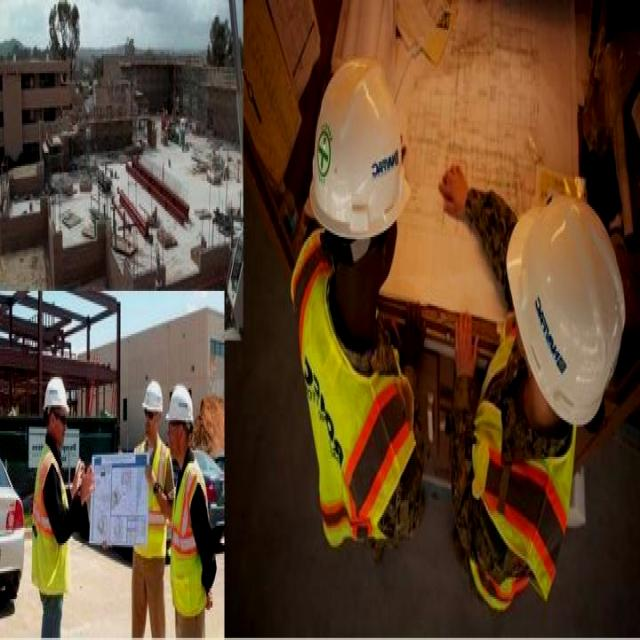face_nomask: (165, 422, 188, 470), (49, 405, 69, 453), (141, 407, 160, 446)
hand_noglove: (438, 149, 476, 235), (448, 298, 477, 394), (70, 444, 84, 506), (80, 457, 95, 508), (141, 459, 159, 498)
head_helmet: (507, 194, 624, 407), (299, 36, 415, 232), (165, 379, 198, 425), (42, 375, 68, 407), (141, 377, 163, 412)
person: (447, 174, 629, 625), (287, 28, 434, 567), (164, 392, 218, 638), (128, 370, 168, 640), (34, 375, 74, 640)
vest: (292, 256, 410, 554), (460, 327, 578, 625), (29, 452, 73, 604), (128, 433, 172, 584), (167, 461, 211, 612)
